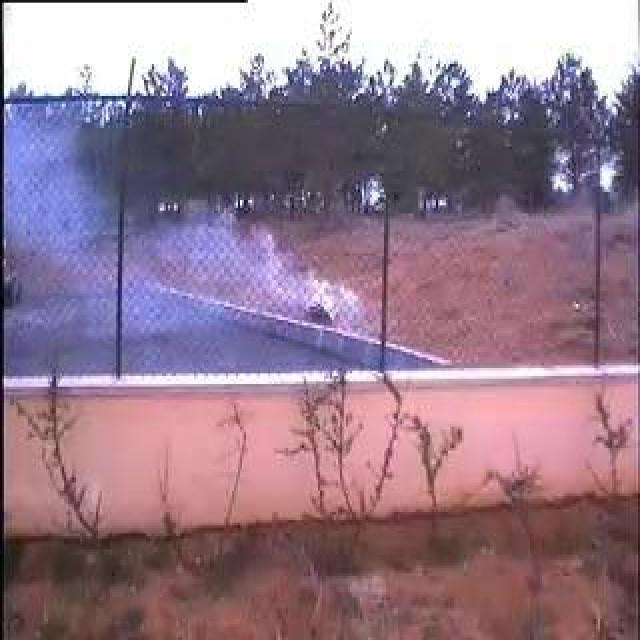Smoke: (43, 134, 361, 326)
